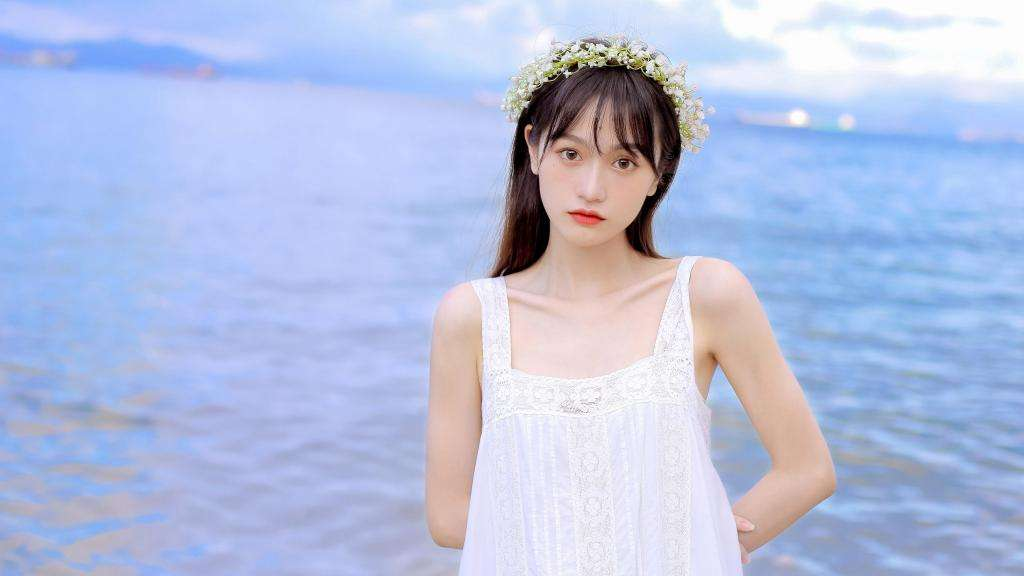person: (403, 66, 872, 549)
